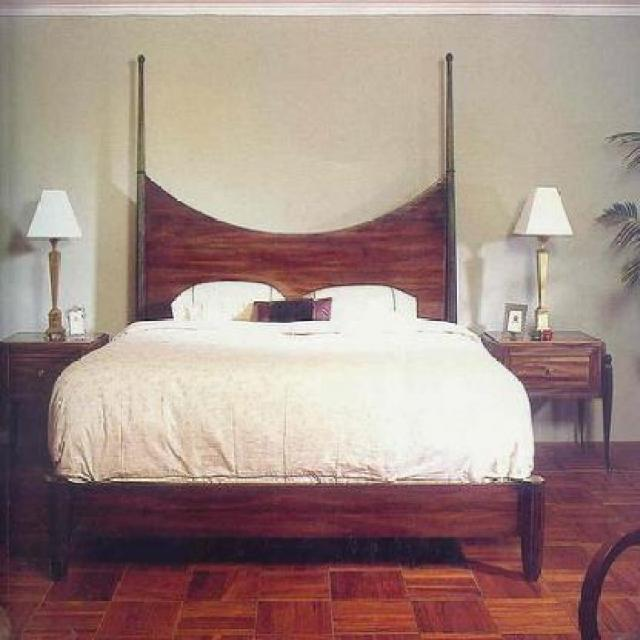Bed: (47, 175, 556, 602)
